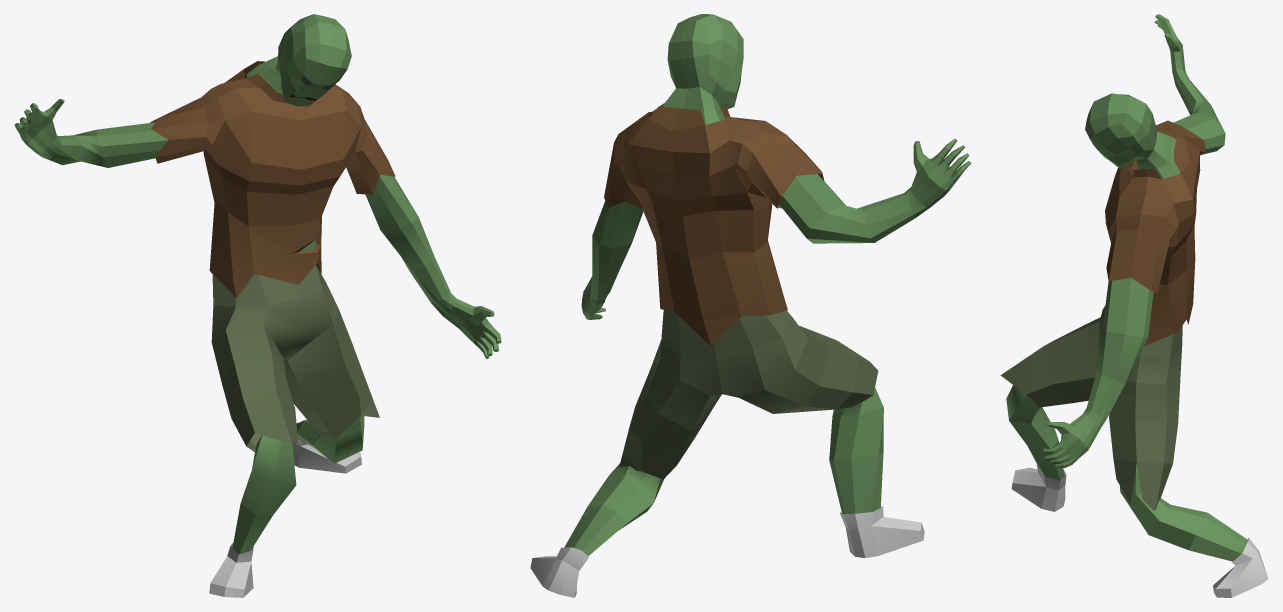
File: ZombieDead(25).obj
3 renders of one model, left to right at view 1: azimuth 30°, elevation 25°; view 2: azimuth 150°, elevation 25°; view 3: azimuth 270°, elevation 25°, orthographic. The views are drawn at different scales.
Visible parts, largest first — view 1: Object001; view 2: Object001; view 3: Object001.
Boxes of the visible parts, x1,y1,x2,y2 form: Object001: [14, 14, 501, 597]; Object001: [530, 14, 970, 597]; Object001: [1000, 14, 1268, 597].
Size of the model in its own units: 44.13 by 51.25 by 26.91.
